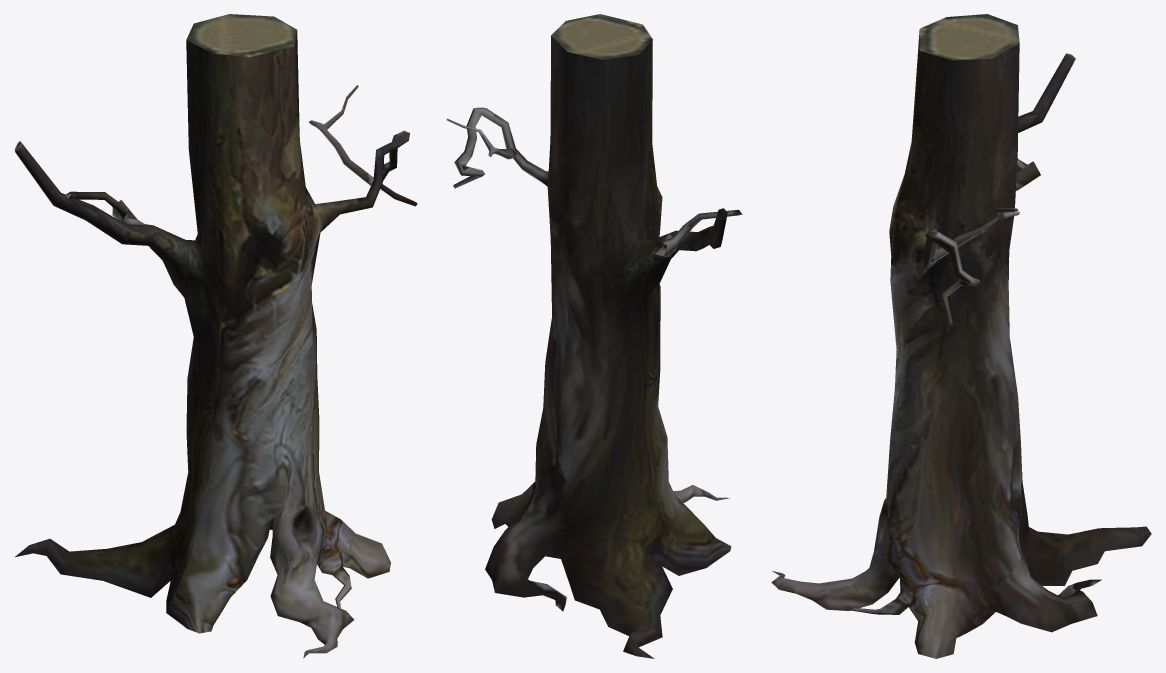
File: d_1156_Tree02.FBX
3 views of the same model, side by side, from view 1: azimuth 30°, elevation 25°; view 2: azimuth 150°, elevation 25°; view 3: azimuth 270°, elevation 25° (orthographic). The views are drawn at different scales.
Visible parts, largest first — view 1: YGCL_shugan_01; view 2: YGCL_shugan_01; view 3: YGCL_shugan_01.
Part boxes in pixels (x1,y1,x2,y2): YGCL_shugan_01: (14, 14, 417, 658); YGCL_shugan_01: (446, 14, 742, 658); YGCL_shugan_01: (771, 14, 1151, 658).
Bounding box in the file's own units: 1086 × 1675 × 1026.
1 material, 1 textured.
